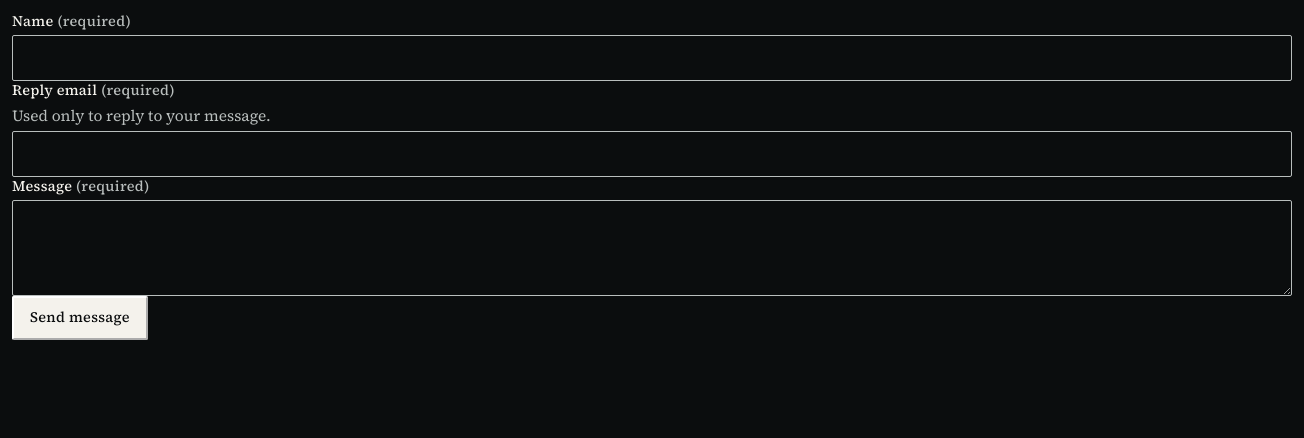
Scenario: ContactForm (M6.1) › blocks submission and shows real field-level errors for empty required fields, moving focus to the first invalid field
Click the button "Send message" at (80, 318), box [12,296,148,340]
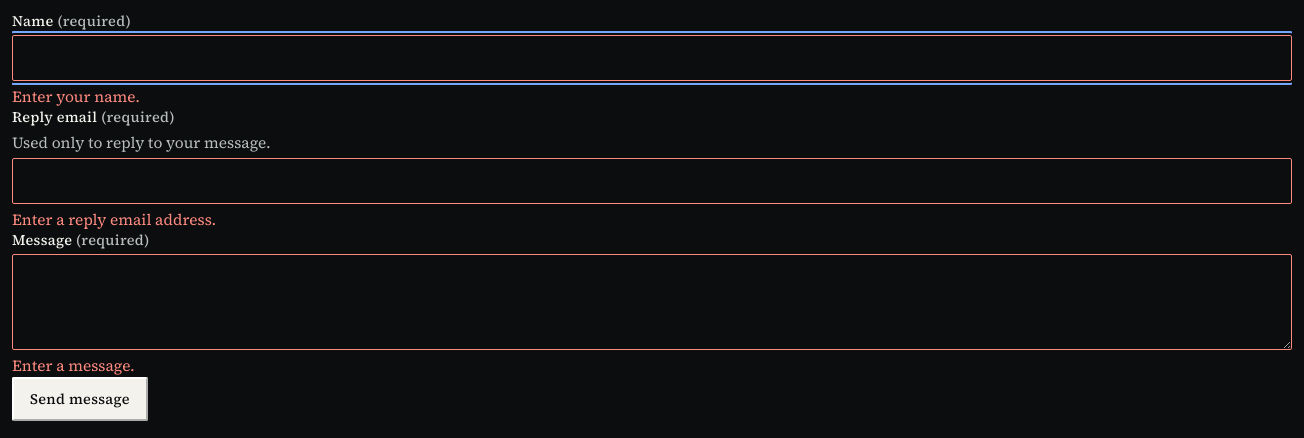
expect the text "Enter your name." is shown: met, box [12,86,140,107]
